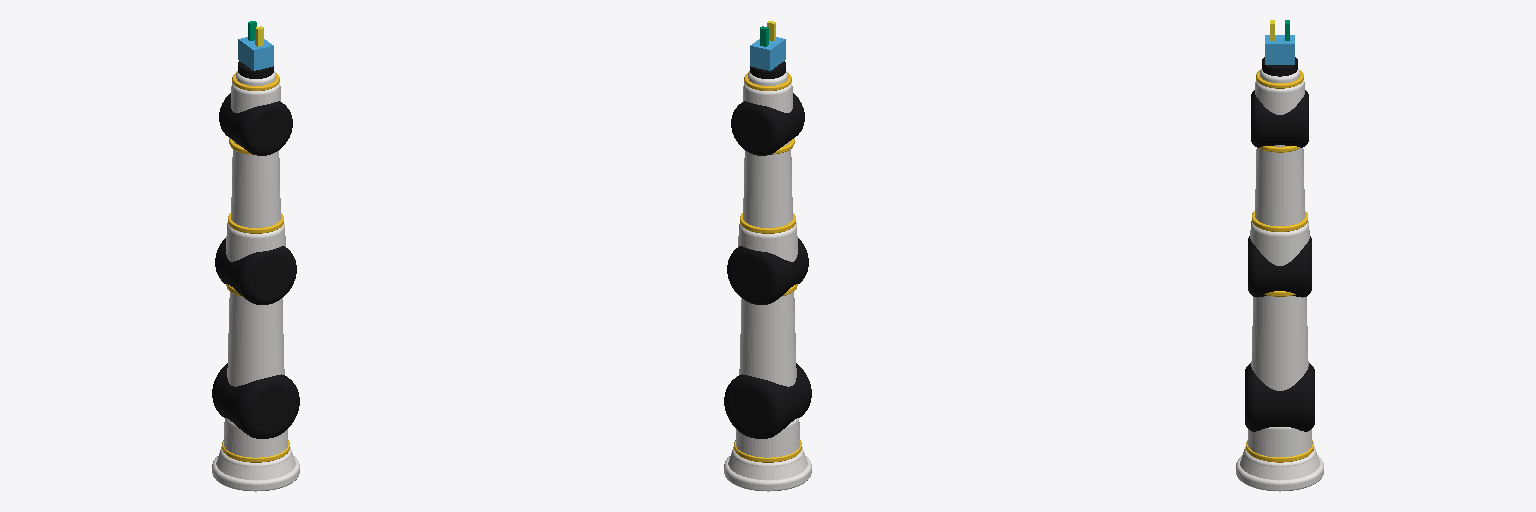
The robot description file, URDF, robot "omniarm6":
<?xml version='1.0' encoding='utf-8'?>
<robot name="omniarm6">

	<link name="link0">
		<inertial>
			<origin rpy="0 0 0" xyz="-0.00090289 -3.524e-05 0.0464554" />
			<mass value="2.002" />
			<inertia ixx="0.00382661" ixy="-1.191e-05" ixz="-3.816e-05" iyy="0.00386108" iyz="-1.6e-06" izz="0.00485705" />
		</inertial>
		<visual>
			<origin xyz="0 0 0" rpy="0 0 0" />
			<geometry>
				<mesh filename="meshes/link0_shell.obj" />
			</geometry>
			<material name="omnisim_shell">
				<color rgba="0.898 0.894 0.882 1.0" />
				<omnisim roughness="0.42" metalness="0.0" />
			</material>
		</visual>
		<visual>
			<origin xyz="0 0 0" rpy="0 0 0" />
			<geometry>
				<mesh filename="meshes/link0_accent.obj" />
			</geometry>
			<material name="omnisim_accent">
				<color rgba="0.965 0.780 0.204 1.0" />
				<omnisim roughness="0.35" metalness="0.2" />
			</material>
		</visual>
<collision>
			<origin xyz="-0.02 0 0.037" rpy="0 0 0" />
			<geometry>
				<cylinder radius="0.12" length="0.075" />
			</geometry>
		</collision>
	</link>

	<link name="link1">
		<inertial>
			<origin rpy="0 0 0" xyz="2.496e-05 0.0196556 0.169149" />
			<mass value="8.256" />
			<inertia ixx="0.0447417" ixy="-5.18e-06" ixz="3.29e-06" iyy="0.038383" iyz="-0.00805897" izz="0.0211142" />
		</inertial>
		<visual>
			<origin xyz="0 0 0" rpy="0 0 0" />
			<geometry>
				<mesh filename="meshes/link1_shell.obj" />
			</geometry>
			<material name="omnisim_shell">
				<color rgba="0.898 0.894 0.882 1.0" />
				<omnisim roughness="0.42" metalness="0.0" />
			</material>
		</visual>
		<visual>
			<origin xyz="0 0 0" rpy="0 0 0" />
			<geometry>
				<mesh filename="meshes/link1_joint.obj" />
			</geometry>
			<material name="omnisim_joint">
				<color rgba="0.129 0.129 0.137 1.0" />
				<omnisim roughness="0.28" metalness="0.85" />
			</material>
		</visual>
<collision>
			<origin xyz="0 0.01 0.17" rpy="0 0 0" />
			<geometry>
				<cylinder radius="0.10" length="0.23" />
			</geometry>
		</collision>
	</link>

	<link name="link2">
		<inertial>
			<origin rpy="0 0 0" xyz="-4.02745e-06 0.113023 0.158393" />
			<mass value="3.9668" />
			<inertia ixx="0.100126" ixy="1.52983e-07" ixz="4.2228e-06" iyy="0.0997161" iyz="0.00215017" izz="0.00646289" />
		</inertial>
		<visual>
			<origin xyz="0 0 0" rpy="0 0 0" />
			<geometry>
				<mesh filename="meshes/link2_shell.obj" />
			</geometry>
			<material name="omnisim_shell">
				<color rgba="0.898 0.894 0.882 1.0" />
				<omnisim roughness="0.42" metalness="0.0" />
			</material>
		</visual>
		<visual>
			<origin xyz="0 0 0" rpy="0 0 0" />
			<geometry>
				<mesh filename="meshes/link2_accent.obj" />
			</geometry>
			<material name="omnisim_accent">
				<color rgba="0.965 0.780 0.204 1.0" />
				<omnisim roughness="0.35" metalness="0.2" />
			</material>
		</visual>
		<visual>
			<origin xyz="0 0 0" rpy="0 0 0" />
			<geometry>
				<mesh filename="meshes/link2_joint.obj" />
			</geometry>
			<material name="omnisim_joint">
				<color rgba="0.129 0.129 0.137 1.0" />
				<omnisim roughness="0.28" metalness="0.85" />
			</material>
		</visual>
<collision>
			<origin xyz="0 0.13 0.185" rpy="0 0 0" />
			<geometry>
				<cylinder radius="0.10" length="0.49" />
			</geometry>
		</collision>
	</link>

	<link name="link3">
		<inertial>
			<origin rpy="0 -0 0" xyz="-3.51946e-05 0.0177216 0.04073" />
			<mass value="5.26105" />
			<inertia ixx="0.0206029" ixy="1.61027e-05" ixz="2.308e-06" iyy="0.016636" iyz="0.00374158" izz="0.010099" />
		</inertial>
		<visual>
			<origin xyz="0 0 0" rpy="0 0 0" />
			<geometry>
				<mesh filename="meshes/link3_shell.obj" />
			</geometry>
			<material name="omnisim_shell">
				<color rgba="0.898 0.894 0.882 1.0" />
				<omnisim roughness="0.42" metalness="0.0" />
			</material>
		</visual>
		<visual>
			<origin xyz="0 0 0" rpy="0 0 0" />
			<geometry>
				<mesh filename="meshes/link3_accent.obj" />
			</geometry>
			<material name="omnisim_accent">
				<color rgba="0.965 0.780 0.204 1.0" />
				<omnisim roughness="0.35" metalness="0.2" />
			</material>
		</visual>
<collision>
			<origin xyz="0 0 0.04" rpy="0 0 0" />
			<geometry>
				<cylinder radius="0.10" length="0.20" />
			</geometry>
		</collision>
	</link>

	<link name="link4">
		<inertial>
			<origin rpy="0 -0 0" xyz="8.08281e-05 0.044542 0.241911" />
			<mass value="2.271" />
			<inertia ixx="0.0342334" ixy="3.365e-06" ixz="-4.11571e-06" iyy="0.0311273" iyz="-0.00818683" izz="0.00522653" />
		</inertial>
		<visual>
			<origin xyz="0 0 0" rpy="0 0 0" />
			<geometry>
				<mesh filename="meshes/link4_shell.obj" />
			</geometry>
			<material name="omnisim_shell">
				<color rgba="0.898 0.894 0.882 1.0" />
				<omnisim roughness="0.42" metalness="0.0" />
			</material>
		</visual>
		<visual>
			<origin xyz="0 0 0" rpy="0 0 0" />
			<geometry>
				<mesh filename="meshes/link4_accent.obj" />
			</geometry>
			<material name="omnisim_accent">
				<color rgba="0.965 0.780 0.204 1.0" />
				<omnisim roughness="0.35" metalness="0.2" />
			</material>
		</visual>
		<visual>
			<origin xyz="0 0 0" rpy="0 0 0" />
			<geometry>
				<mesh filename="meshes/link4_joint.obj" />
			</geometry>
			<material name="omnisim_joint">
				<color rgba="0.129 0.129 0.137 1.0" />
				<omnisim roughness="0.28" metalness="0.85" />
			</material>
		</visual>
<collision>
			<origin xyz="0 0.035 0.29" rpy="0 0 0" />
			<geometry>
				<cylinder radius="0.10" length="0.35" />
			</geometry>
		</collision>
	</link>

	<link name="link5">
		<inertial>
			<origin rpy="0 -0 0" xyz="4.18387e-05 0.0147744 0.0354" />
			<mass value="2.54629" />
			<inertia ixx="0.00855547" ixy="4.97317e-06" ixz="6.07841e-06" iyy="0.00582159" iyz="0.00129227" izz="0.00358312" />
		</inertial>
		<visual>
			<origin xyz="0 0 0" rpy="0 0 0" />
			<geometry>
				<mesh filename="meshes/link5_shell.obj" />
			</geometry>
			<material name="omnisim_shell">
				<color rgba="0.898 0.894 0.882 1.0" />
				<omnisim roughness="0.42" metalness="0.0" />
			</material>
		</visual>
		<visual>
			<origin xyz="0 0 0" rpy="0 0 0" />
			<geometry>
				<mesh filename="meshes/link5_accent.obj" />
			</geometry>
			<material name="omnisim_accent">
				<color rgba="0.965 0.780 0.204 1.0" />
				<omnisim roughness="0.35" metalness="0.2" />
			</material>
		</visual>
<collision>
			<origin xyz="0 0 0.04" rpy="0 0 0" />
			<geometry>
				<cylinder radius="0.10" length="0.18" />
			</geometry>
		</collision>
	</link>

	<link name="link6">
		<inertial>
			<origin rpy="0 -0 0" xyz="-2.51647e-06 0.000204679 0.12067" />
			<mass value="0.577639" />
			<inertia ixx="0.00034085" ixy="1.01877e-06" ixz="-1.4781e-07" iyy="0.00038675" iyz="-1.06647e-06" izz="0.000536577" />
		</inertial>
		<visual>
			<origin xyz="0 0 0" rpy="0 0 0" />
			<geometry>
				<mesh filename="meshes/link6_shell.obj" />
			</geometry>
			<material name="omnisim_shell">
				<color rgba="0.898 0.894 0.882 1.0" />
				<omnisim roughness="0.42" metalness="0.0" />
			</material>
		</visual>
		<visual>
			<origin xyz="0 0 0" rpy="0 0 0" />
			<geometry>
				<mesh filename="meshes/link6_joint.obj" />
			</geometry>
			<material name="omnisim_joint">
				<color rgba="0.129 0.129 0.137 1.0" />
				<omnisim roughness="0.28" metalness="0.85" />
			</material>
		</visual>
<collision>
			<origin xyz="0 0 0.083" rpy="0 0 0" />
			<geometry>
				<cylinder radius="0.05" length="0.165" />
			</geometry>
		</collision>
	</link>

	<link name="flange">
	</link>

	<link name="gripper_tcp">
	</link>


	<joint name="joint1" type="revolute">
		<limit lower="-3.14159" upper="3.14159" effort="194" velocity="3.1415" />
		<origin rpy="0 0 0" xyz="0 0 0" />
		<parent link="link0" />
		<child link="link1" />
		<axis xyz="0 0 1" />
	</joint>

	<joint name="joint2" type="revolute">
		<limit lower="-3.14159" upper="3.14159" effort="194" velocity="3.1415" />
		<origin rpy="0 0 0" xyz="0 0 0.22" />
		<parent link="link1" />
		<child link="link2" />
		<axis xyz="0 1 0" />
	</joint>

	<joint name="joint3" type="revolute">
		<limit lower="-2.61799" upper="2.61799" effort="102" velocity="3.1415" />
		<origin rpy="0 0 0" xyz="0 0 0.38" />
		<parent link="link2" />
		<child link="link3" />
		<axis xyz="0 1 0" />
	</joint>

	<joint name="joint4" type="revolute">
		<limit lower="-6.28319" upper="6.28319" effort="102" velocity="3.1415" />
		<origin rpy="0 0 0" xyz="0 0 0" />
		<parent link="link3" />
		<child link="link4" />
		<axis xyz="0 0 1" />
	</joint>

	<joint name="joint5" type="revolute">
		<limit lower="-3.14159" upper="3.14159" effort="34" velocity="3.4906" />
		<origin rpy="0 0 0" xyz="0 0 0.42" />
		<parent link="link4" />
		<child link="link5" />
		<axis xyz="0 1 0" />
	</joint>

	<joint name="joint6" type="revolute">
		<limit lower="-6.28319" upper="6.28319" effort="34" velocity="3.4906" />
		<origin rpy="0 0 0" xyz="0 0 0" />
		<parent link="link5" />
		<child link="link6" />
		<axis xyz="0 0 1" />
	</joint>

	<joint name="link6flange" type="fixed">
		<origin rpy="0 0 0" xyz="0 0 0.1655" />
		<parent link="link6" />
		<child link="flange" />
	</joint>

	<joint name="flangegripper_tcp" type="fixed">
		<origin rpy="0 0 0" xyz="0 0 0.0" />
		<parent link="flange" />
		<child link="gripper_tcp" />
	</joint>


	<!-- ===== Robotiq 2F-85 (physics): real prismatic fingers on link6 ===== -->
	<link name="robotiq_2f85_base_link">
		<visual><origin xyz="0 0 0.030" rpy="0 0 0"/><geometry><box size="0.060 0.080 0.060"/></geometry></visual>
		<collision><origin xyz="0 0 0.030" rpy="0 0 0"/><geometry><box size="0.060 0.080 0.060"/></geometry></collision>
		<inertial><origin xyz="0 0 0.030" rpy="0 0 0"/><mass value="0.925"/><inertia ixx="6.6e-4" ixy="0" ixz="0" iyy="4.8e-4" iyz="0" izz="6.6e-4"/></inertial>
	</link>
	<joint name="robotiq_2f85_joint" type="fixed">
		<origin rpy="0 0 0" xyz="0 0 0.1655"/>
		<parent link="link6"/>
		<child link="robotiq_2f85_base_link"/>
	</joint>
	<link name="robotiq_2f85_left_finger_link">
		<visual><origin xyz="0 0 0.025" rpy="0 0 0"/><geometry><box size="0.020 0.014 0.050"/></geometry></visual>
		<collision><origin xyz="0 0 0.025" rpy="0 0 0"/><geometry><box size="0.020 0.014 0.050"/></geometry></collision>
		<inertial><origin xyz="0 0 0.025" rpy="0 0 0"/><mass value="0.040"/><inertia ixx="9.3e-6" ixy="0" ixz="0" iyy="9.5e-6" iyz="0" izz="2.7e-6"/></inertial>
	</link>
	<joint name="robotiq_2f85_finger" type="prismatic">
		<origin rpy="0 0 0" xyz="0 0.020 0.060"/>
		<parent link="robotiq_2f85_base_link"/>
		<child link="robotiq_2f85_left_finger_link"/>
		<axis xyz="0 1 0"/>
		<limit lower="0" upper="0.0425" effort="50" velocity="0.15"/>
	</joint>
	<link name="robotiq_2f85_right_finger_link">
		<visual><origin xyz="0 0 0.025" rpy="0 0 0"/><geometry><box size="0.020 0.014 0.050"/></geometry></visual>
		<collision><origin xyz="0 0 0.025" rpy="0 0 0"/><geometry><box size="0.020 0.014 0.050"/></geometry></collision>
		<inertial><origin xyz="0 0 0.025" rpy="0 0 0"/><mass value="0.040"/><inertia ixx="9.3e-6" ixy="0" ixz="0" iyy="9.5e-6" iyz="0" izz="2.7e-6"/></inertial>
	</link>
	<joint name="robotiq_2f85_finger_mirror" type="prismatic">
		<origin rpy="0 0 0" xyz="0 -0.020 0.060"/>
		<parent link="robotiq_2f85_base_link"/>
		<child link="robotiq_2f85_right_finger_link"/>
		<axis xyz="0 -1 0"/>
		<limit lower="0" upper="0.0425" effort="50" velocity="0.15"/>
	</joint>

</robot>

--- What the picture shows (computed from the rendered views, not written in the file) ---
The picture shows the robot from 3 angles, left to right: view 1: azimuth 30°, elevation 25°; view 2: azimuth 150°, elevation 25°; view 3: azimuth 270°, elevation 25°; orthographic projection.
Robot: omniarm6 — 12 links, 11 joints (6 revolute, 2 prismatic, 3 fixed); root link link0; default pose: every joint at zero.
Visible links, largest first — view 1: link2, link4, link1, link0, link3, link5, robotiq_2f85_base_link, link6; view 2: link2, link4, link1, link0, link3, link5, robotiq_2f85_base_link, link6; view 3: link2, link4, link1, link0, link3, link5, robotiq_2f85_base_link, link6.
Link boxes in pixels (x1=…): link2: x1=215, y1=238, x2=296, y2=386; link4: x1=219, y1=93, x2=292, y2=227; link1: x1=212, y1=363, x2=299, y2=457; link0: x1=212, y1=440, x2=299, y2=491; link3: x1=226, y1=213, x2=285, y2=261; link5: x1=231, y1=72, x2=280, y2=112; robotiq_2f85_base_link: x1=238, y1=37, x2=273, y2=70; link6: x1=236, y1=61, x2=275, y2=85; link2: x1=727, y1=238, x2=808, y2=386; link4: x1=731, y1=93, x2=804, y2=227; link1: x1=724, y1=363, x2=811, y2=457; link0: x1=724, y1=440, x2=811, y2=491; link3: x1=738, y1=213, x2=797, y2=261; link5: x1=743, y1=72, x2=792, y2=112; robotiq_2f85_base_link: x1=750, y1=37, x2=785, y2=70; link6: x1=748, y1=61, x2=787, y2=85; link2: x1=1248, y1=236, x2=1311, y2=390; link4: x1=1251, y1=90, x2=1308, y2=225; link1: x1=1245, y1=363, x2=1314, y2=456; link0: x1=1236, y1=440, x2=1323, y2=491; link3: x1=1250, y1=211, x2=1309, y2=265; link5: x1=1255, y1=70, x2=1304, y2=114; robotiq_2f85_base_link: x1=1265, y1=35, x2=1294, y2=64; link6: x1=1260, y1=57, x2=1299, y2=82.
Bounding box of the posed robot: 0.23 × 0.23 × 1.3 m (x, y, z).
16 mesh visuals loaded from 16 distinct referenced files (16 OBJ).
